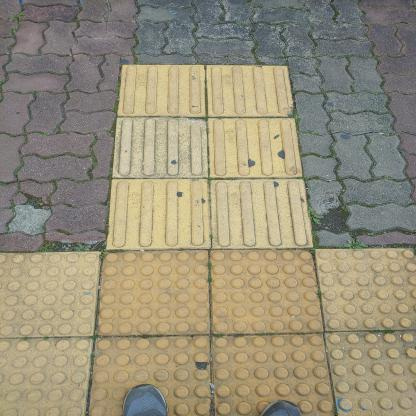podotacti: (0, 241, 415, 415), (96, 59, 331, 252)
